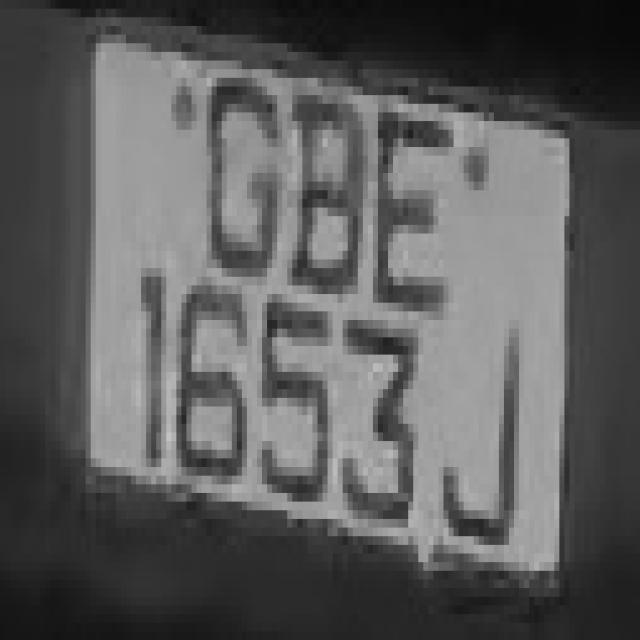1: (126, 216, 176, 502)
3: (317, 294, 428, 580)
5: (247, 250, 333, 528)
6: (171, 268, 257, 510)
B: (292, 60, 373, 338)
E: (373, 86, 453, 338)
G: (192, 26, 282, 311)
J: (438, 328, 550, 570)
